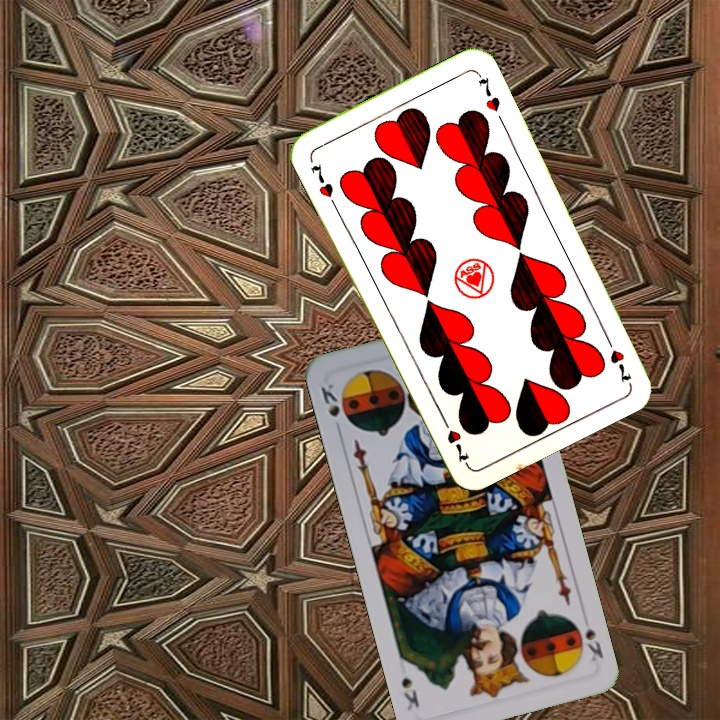H7: (600, 331, 634, 386), (307, 160, 336, 201)
SK: (316, 379, 344, 436), (581, 622, 606, 665)
